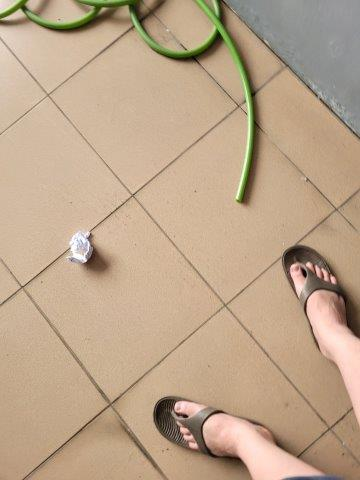kertas: (67, 232, 96, 268)
